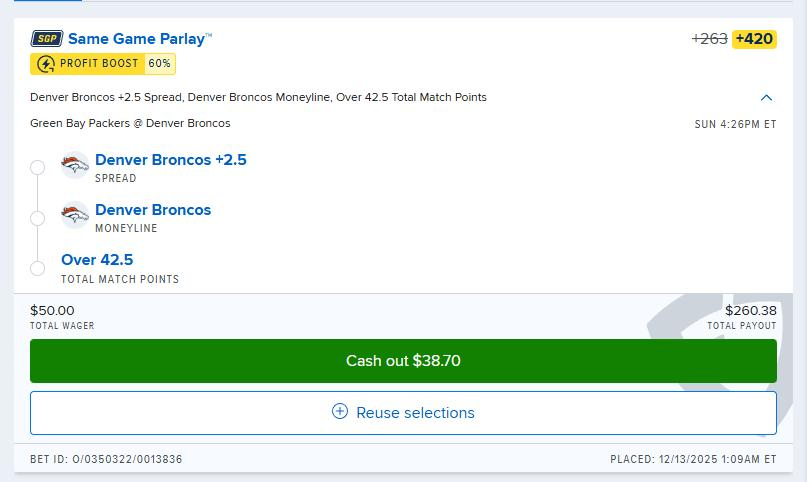game: (27, 116, 236, 131)
odds: (734, 28, 777, 47)
payout: (722, 301, 783, 319)
wager: (26, 301, 76, 317)
